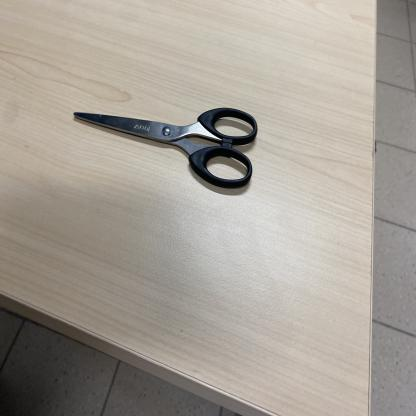scissors: (74, 107, 258, 189)
